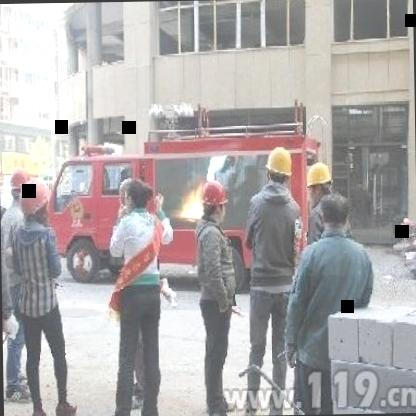helmet: (199, 180, 228, 226), (264, 144, 294, 188), (21, 180, 50, 224), (306, 160, 332, 208), (7, 169, 30, 200)
